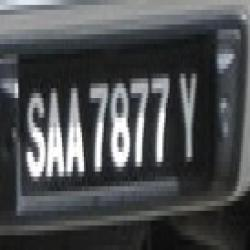LicensePlate: (13, 36, 223, 215)
